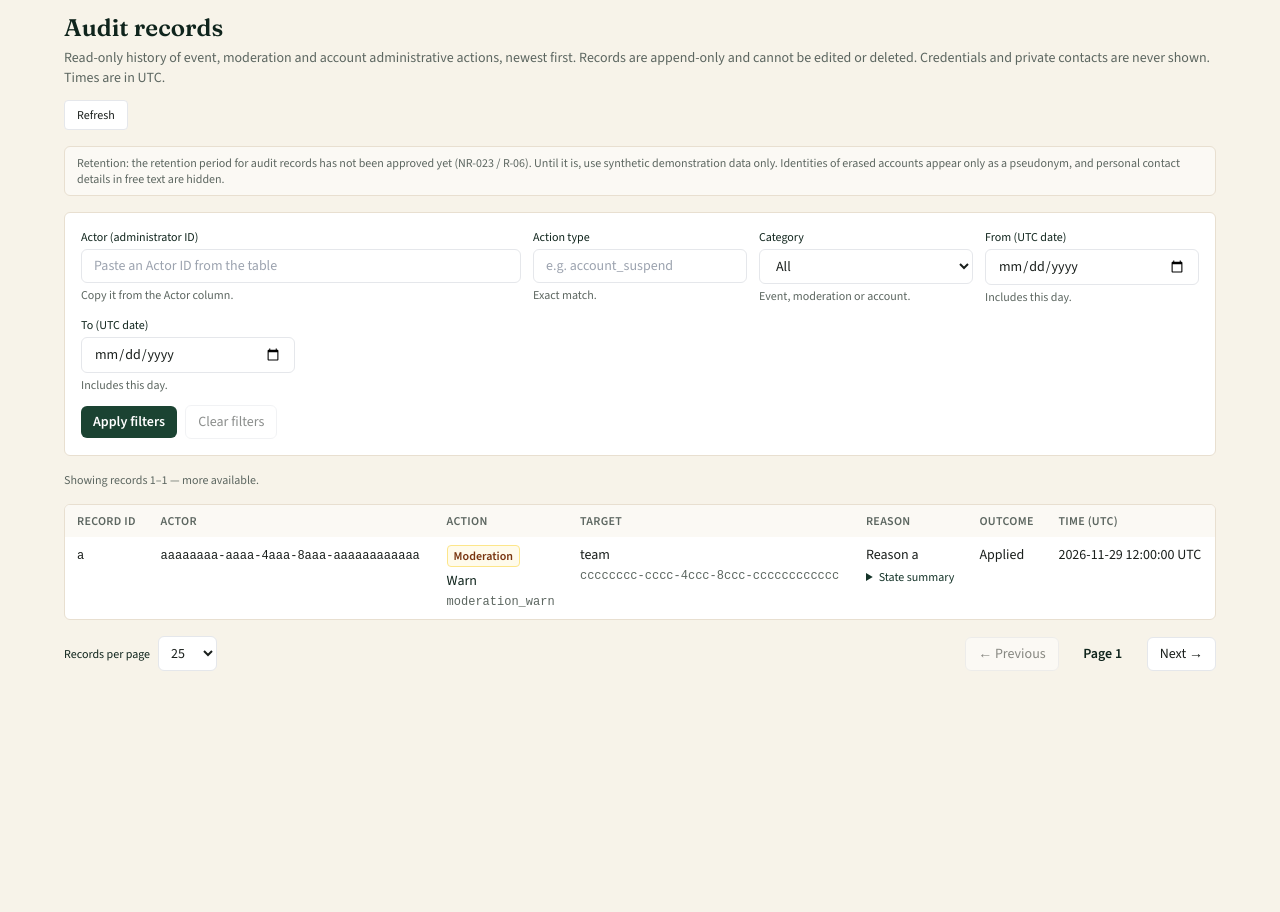
Test: AuditRecordsPage retention and pseudonymization (US-028 / #263) › stays visible when a refresh or page change fails (the page and its note are kept)
The width and height of the screenshot is (1280, 912).
Click the button with test id "audit-page-next". click: {"x": 1181, "y": 654}
box: [1147, 636, 1216, 670]
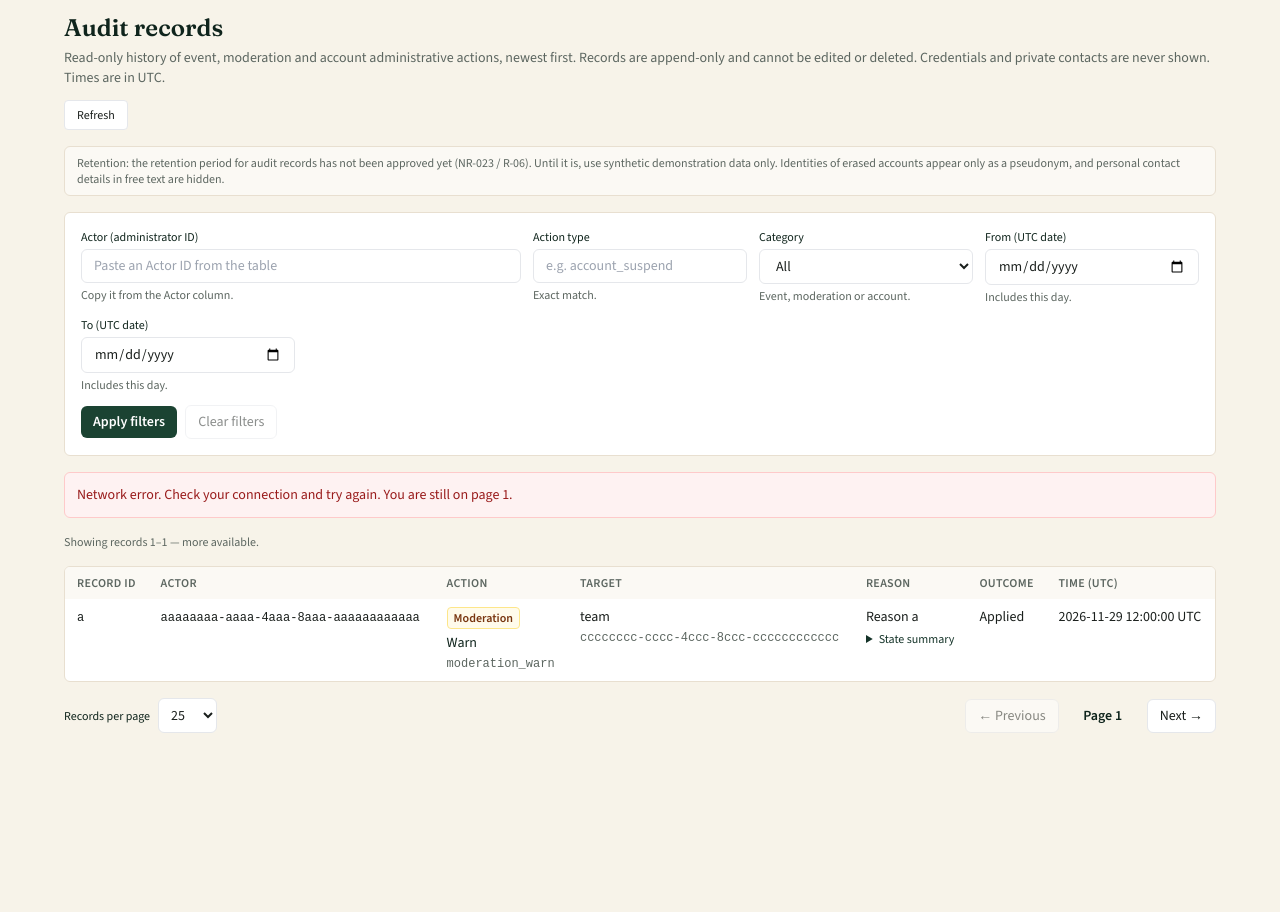
Expected: the text with test id "audit-retention-note" is shown, [64, 146, 1216, 196]
Expected: the message "Network error. Check your connection and try again. You are still on page 1." is shown, [64, 472, 1216, 518]
